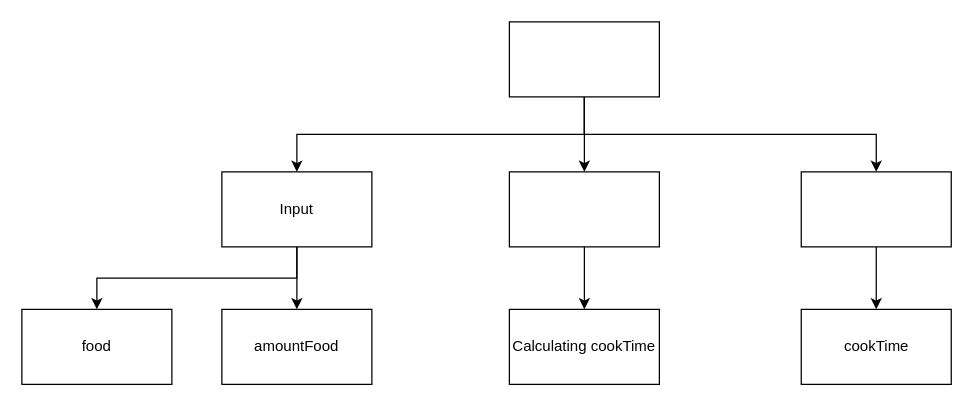
Image size: 974x406. Some labels were removed from this diagram. The box of each missing label's shape, as (x1, y1, x2, y2) in pixels:
Microwave: (508, 21, 659, 97)
Output: (800, 171, 951, 247)
Process: (508, 171, 659, 247)
